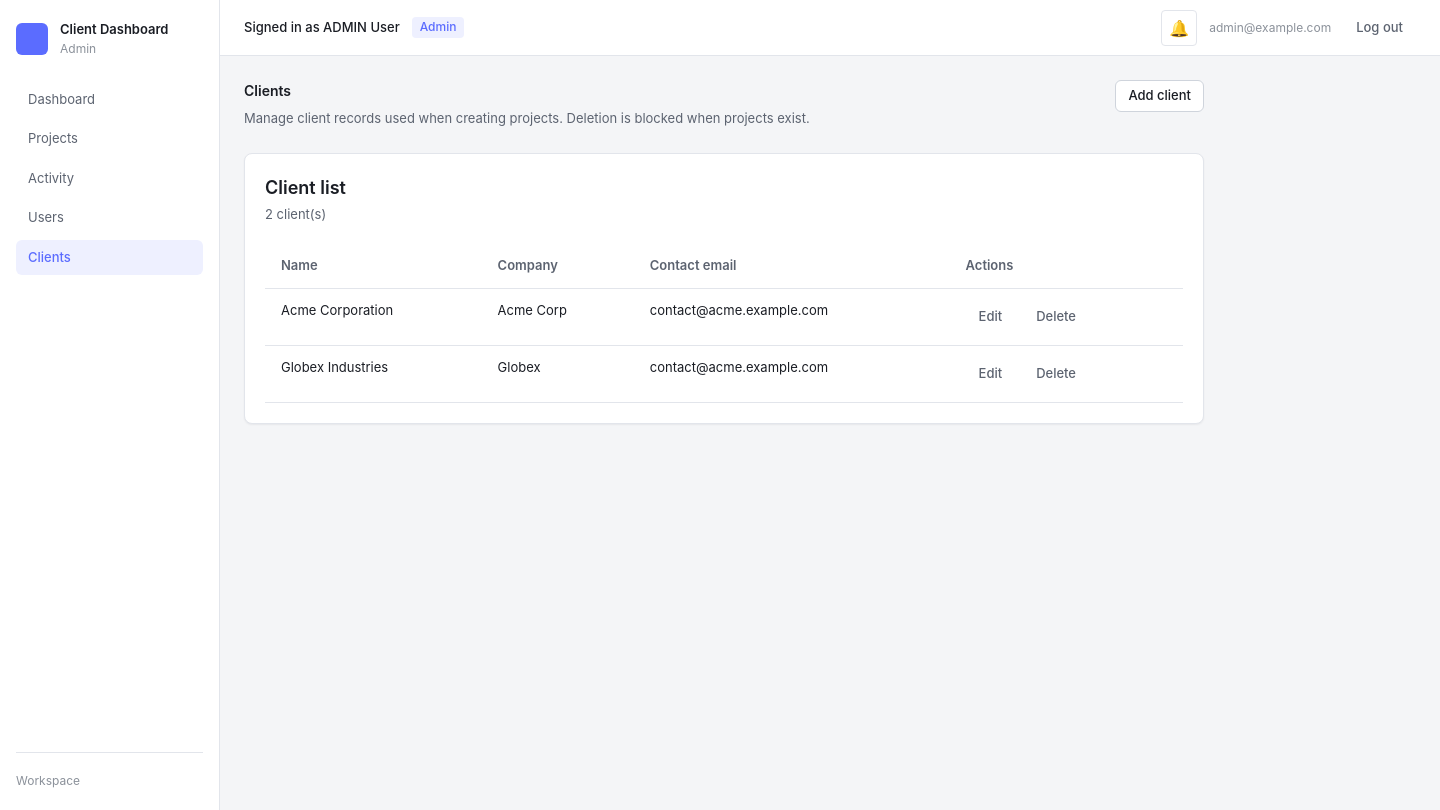
Test case: Admin client management UI › renders structured delete errors cleanly
expect the text "Globex Industries" is shown: met, box [265,345,482,402]
What coordinates should you click on to do the following:
click the button "Delete" in the row of "Globex Industries"
I would click on:
 (1056, 374)
Its box is [1023,358,1089,390].
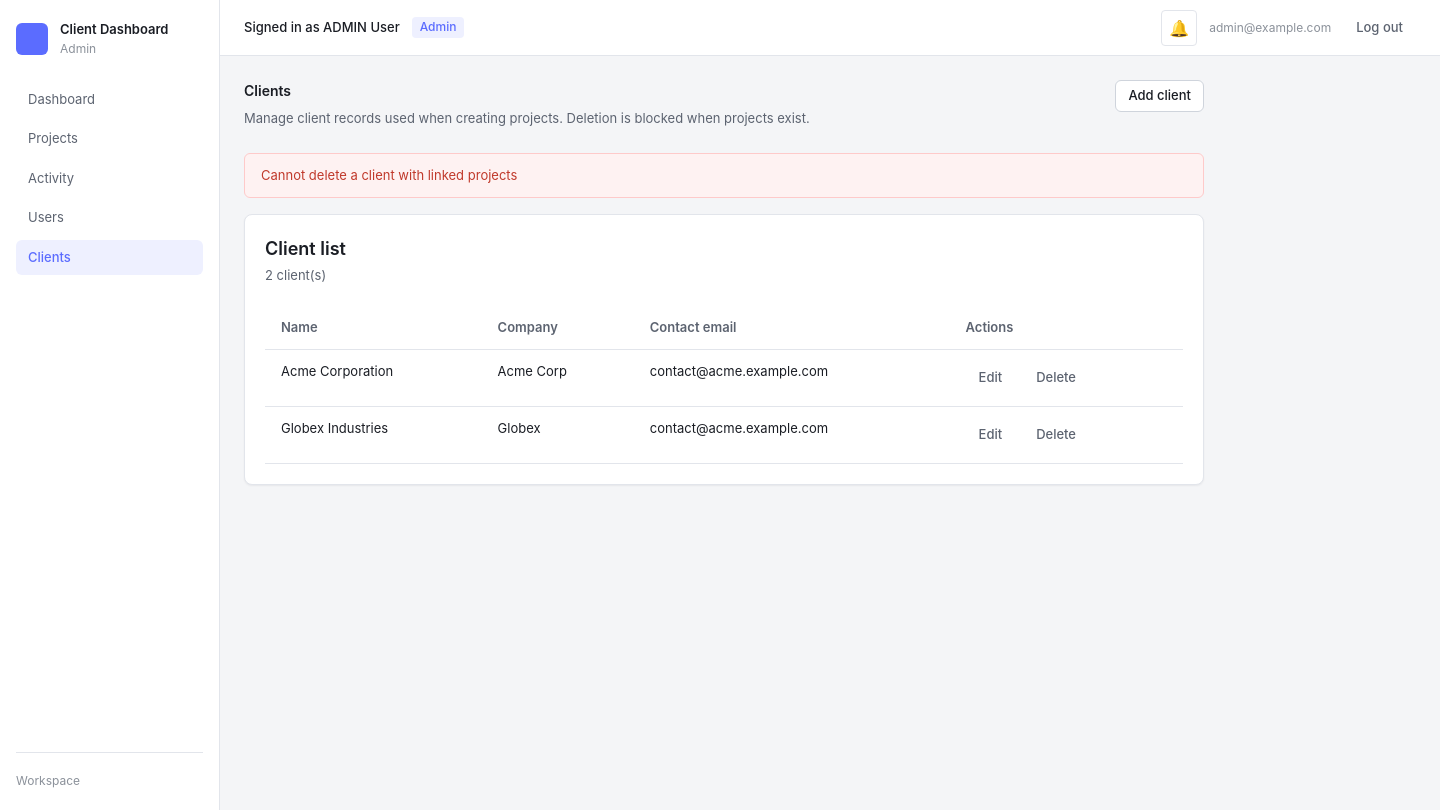
expect the text "Cannot delete a client with linked projects" is shown: met, box [244,152,1204,198]
